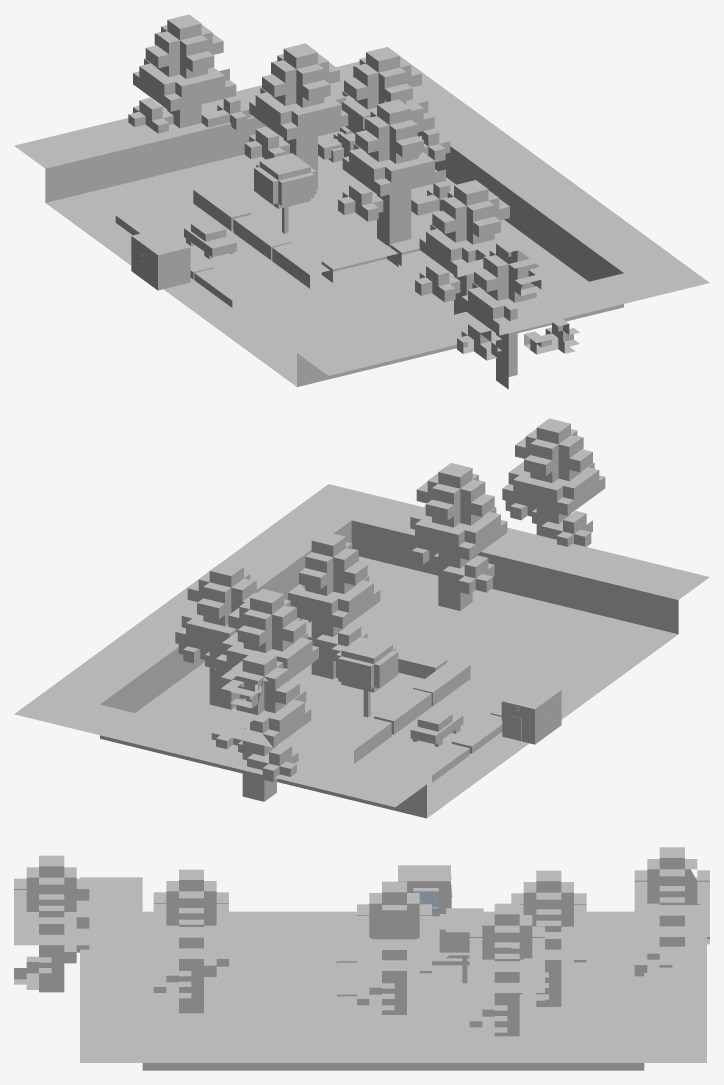
File: Ants.fbx
3 renders of one model, top to bottom at view 1: azimuth 30°, elevation 25°; view 2: azimuth 150°, elevation 25°; view 3: azimuth 270°, elevation 25°, orthographic.
Parts seen in each view (by area): view 1: Ants, Room_Box, Room2; view 2: Ants, Room2, Room_Box; view 3: Ants, Room_Box.
Boxes of the visible parts, x1,y1,x2,y2 form: Ants: (14,14,709,389); Room_Box: (131,228,190,290); Room2: (131,236,157,290); Ants: (14,418,709,818); Room2: (502,690,561,744); Room_Box: (501,682,560,719); Ants: (14,847,709,1070); Room_Box: (398,865,450,916).
Size of the model in its own units: 360 by 123 by 555.
